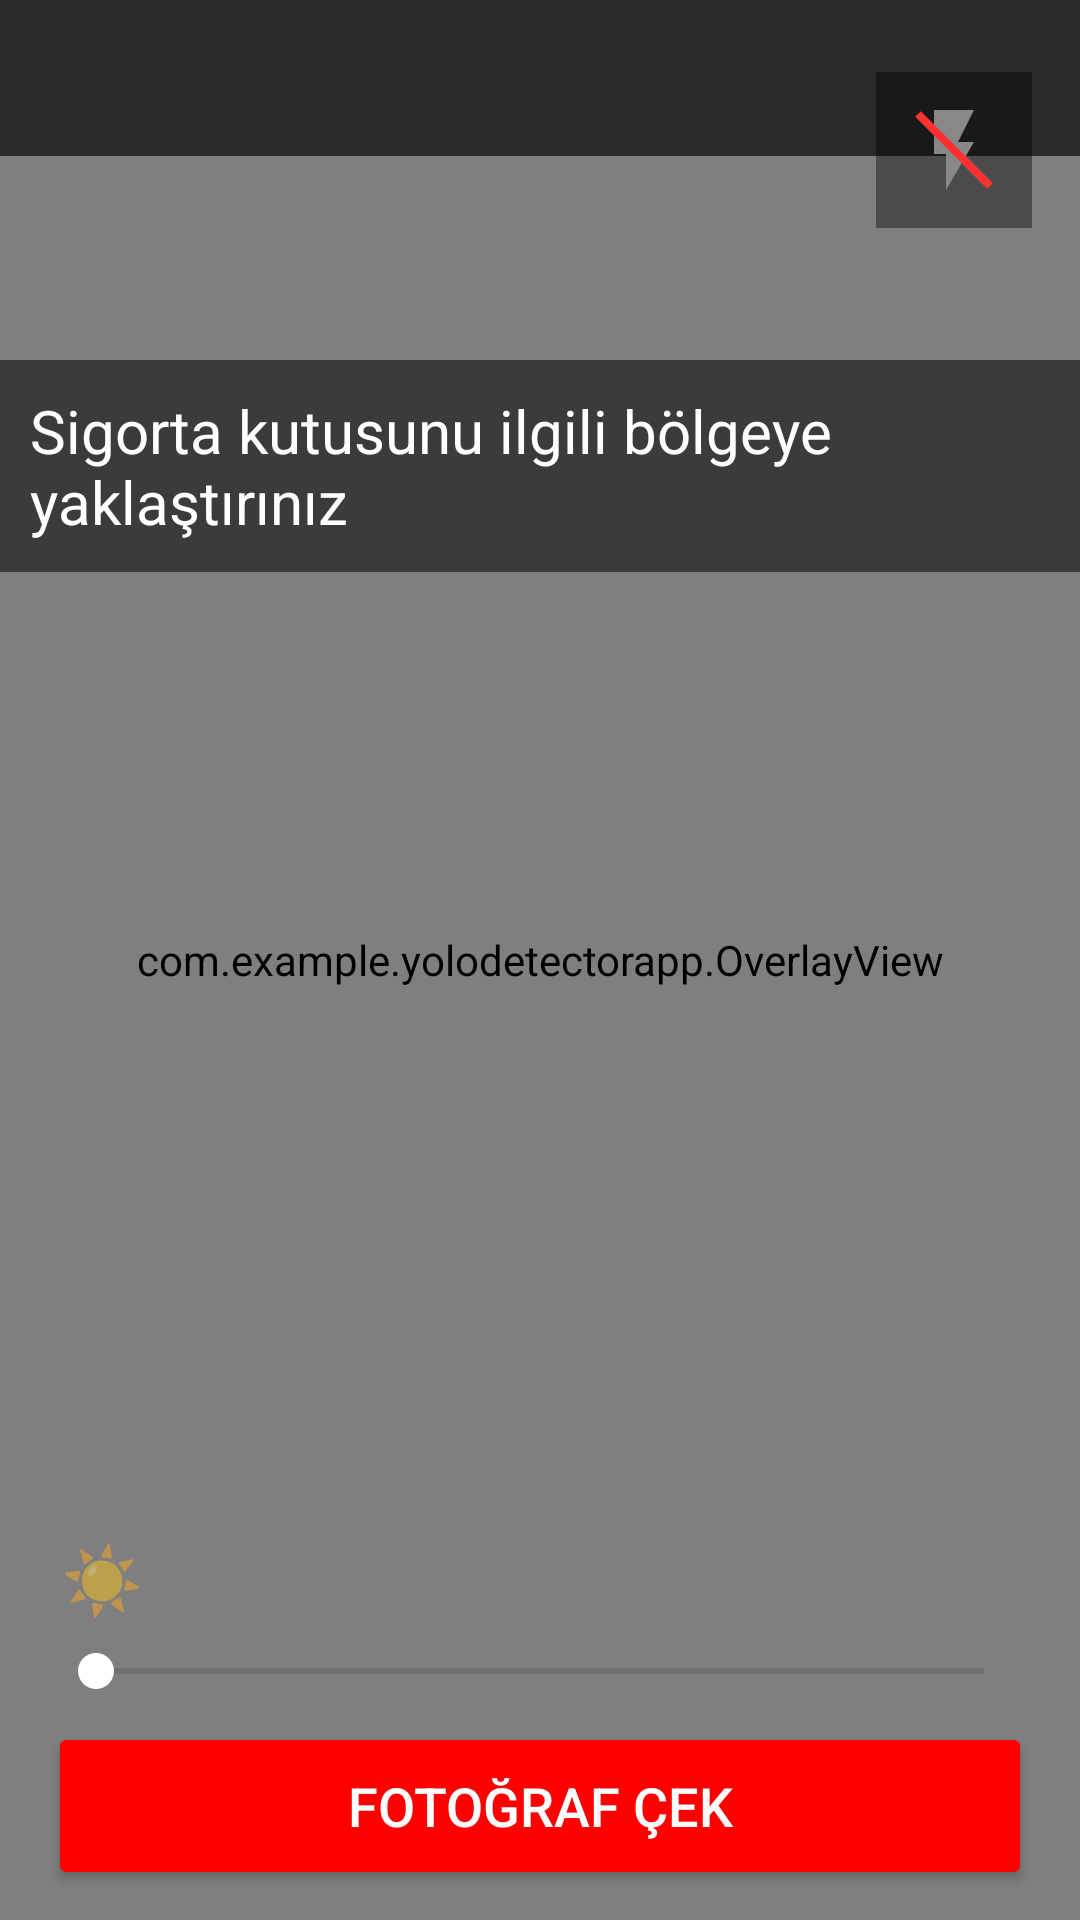

Where to tap for icons on this 1080×1920 app screen, as (x,y):
Flash: (954,150)
